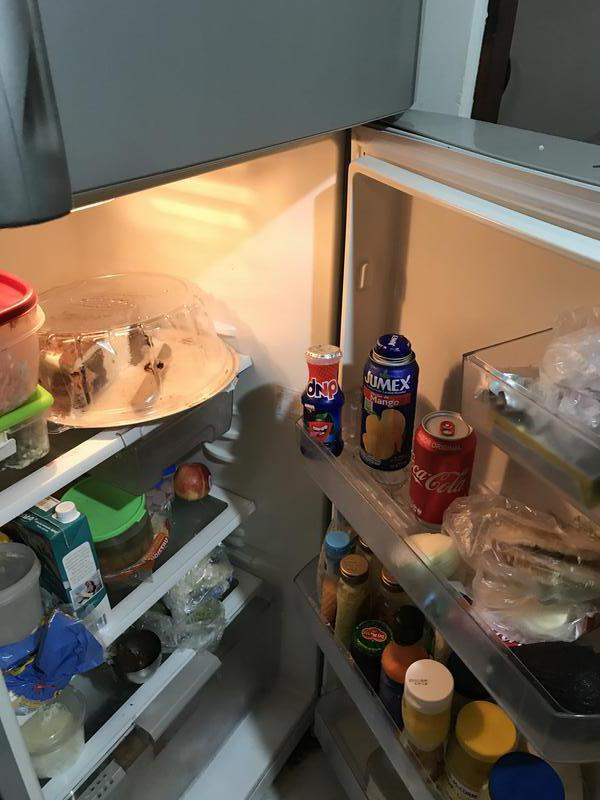coca_cola: (412, 412, 474, 522)
danup: (301, 343, 346, 460)
jugo_jumex: (362, 332, 419, 473)
